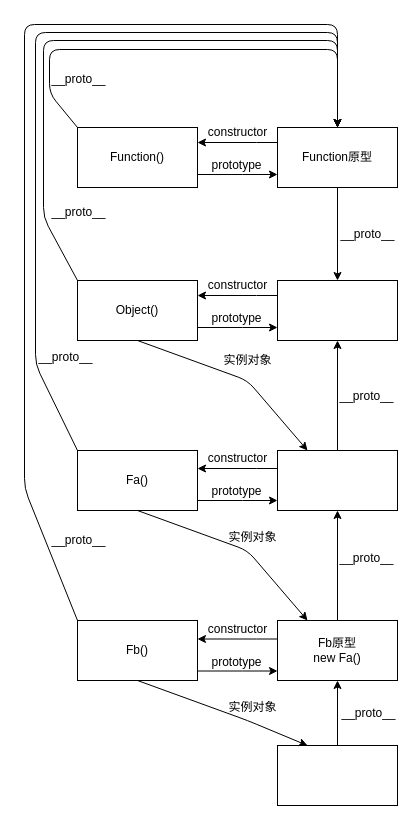
The diagram is 415 pixels wide and 823 high, and some of its shapes have lost their labels. The centre of each missing label's shape, as x and y in pixels:
b=new Fb(): point 337,775
Fa原型 new Object(): point 337,480
Object原型: point 337,310
